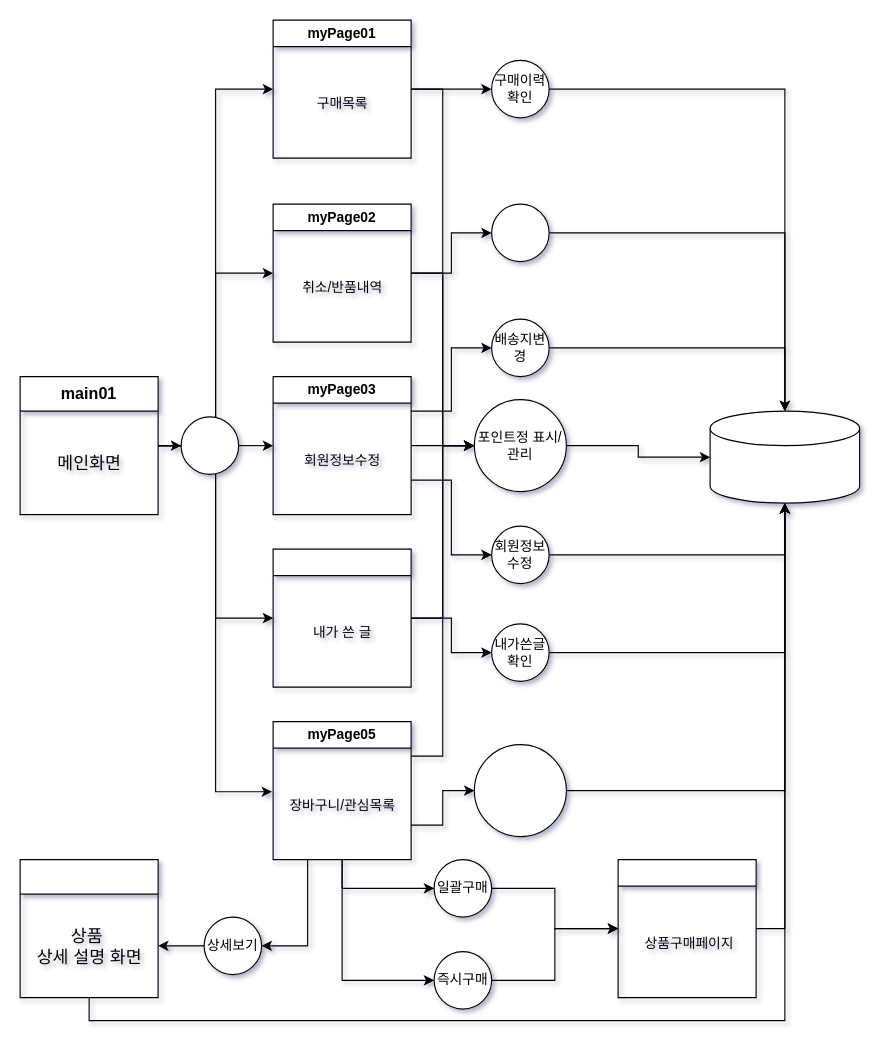
This 887x1057 diagram has some shape labels left out. Each missing label, with the box of its shape:
buy01: (617, 858, 756, 998)
DB: (709, 410, 860, 503)
myPage04: (272, 548, 411, 687)
shop02: (19, 858, 158, 998)
로그인: (180, 416, 239, 474)
장바구니/관심목록 확인: (473, 743, 566, 837)
취소/반품내역 확인: (490, 203, 549, 262)
